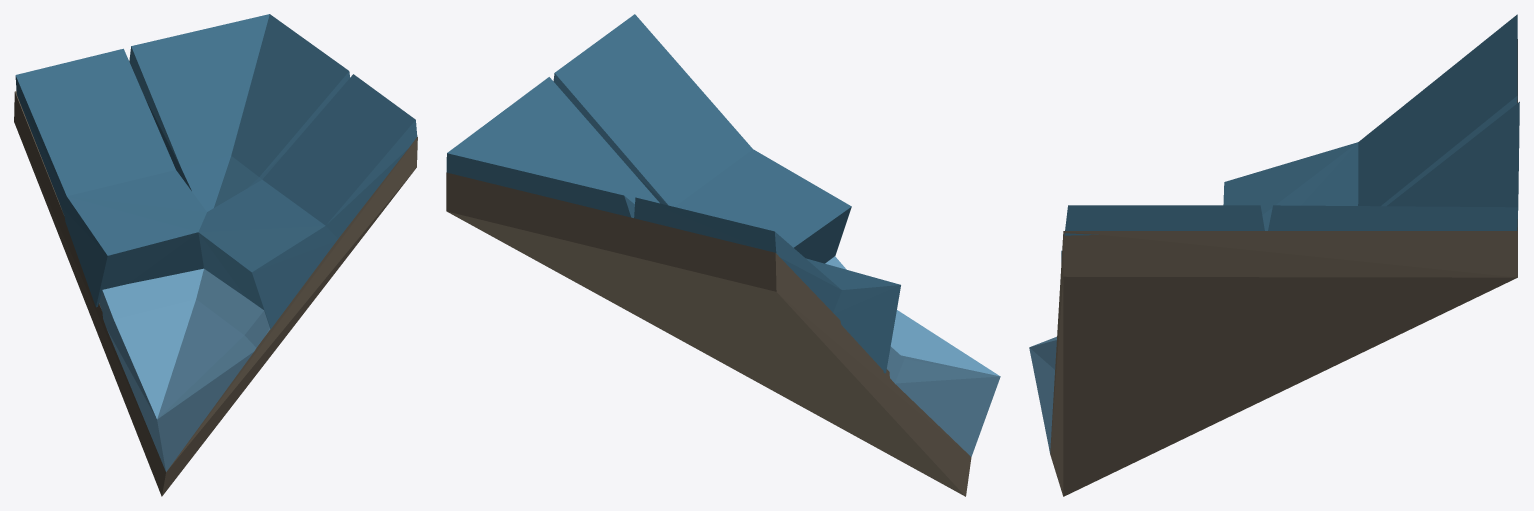
Rendered from ROOF_small_inner_corner_1.glb.
The picture shows the model from 3 angles, left to right: view 1: azimuth 30°, elevation 25°; view 2: azimuth 150°, elevation 25°; view 3: azimuth 270°, elevation 25°; orthographic projection. The views are drawn at different scales.
Parts seen in each view (by area): view 1: ROOF_small_inner_corner_1; view 2: ROOF_small_inner_corner_1; view 3: ROOF_small_inner_corner_1.
Boxes of the visible parts, x1,y1,x2,y2 form: ROOF_small_inner_corner_1: (14,14,417,496); ROOF_small_inner_corner_1: (446,14,1000,496); ROOF_small_inner_corner_1: (1029,14,1519,496).
Bounding box in the file's own units: 0.5324 × 0.5871 × 0.5397.
1 material, 1 textured.
